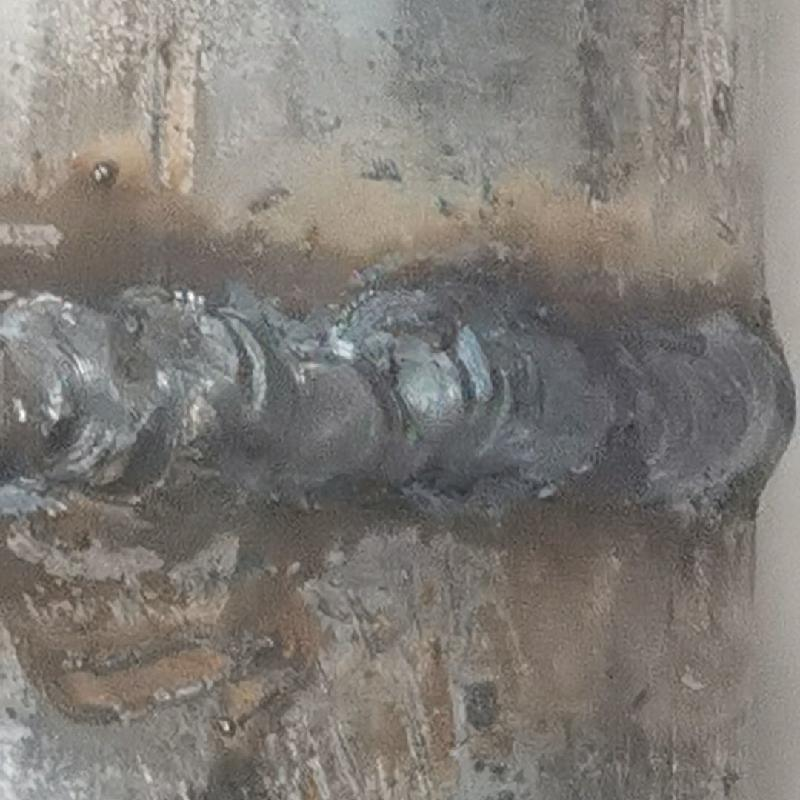good: (0, 253, 796, 540)
